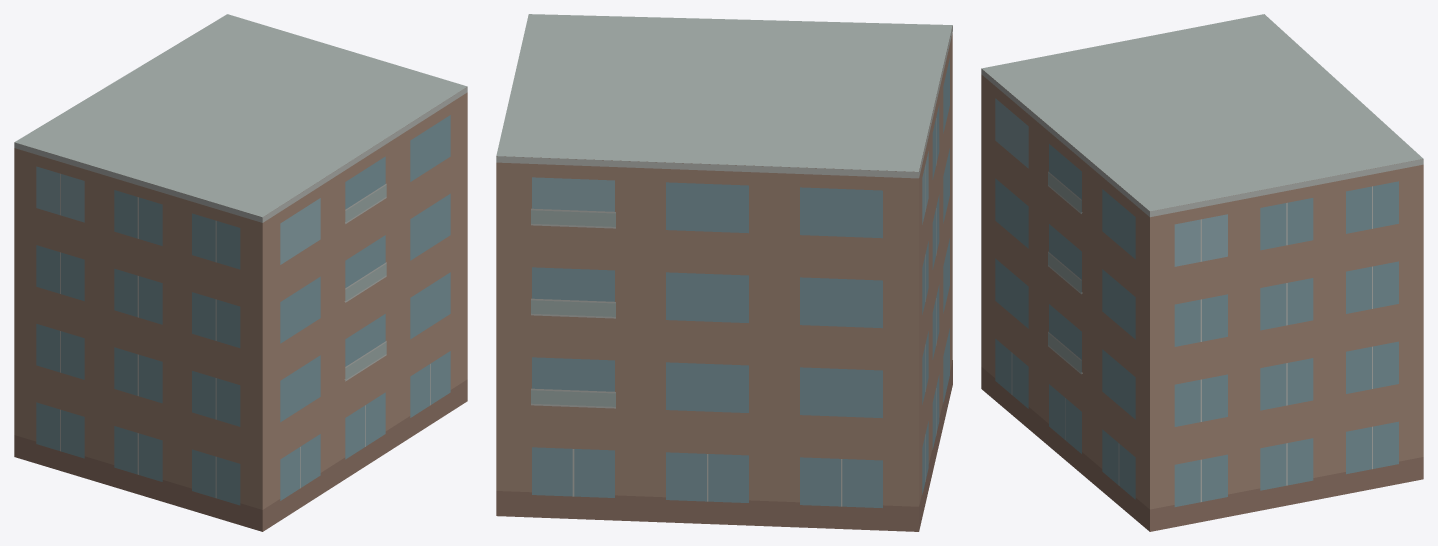
File: survey-upis-32740657.glb
The picture shows the model from 3 angles, left to right: view 1: azimuth 30°, elevation 25°; view 2: azimuth 150°, elevation 25°; view 3: azimuth 270°, elevation 25°; orthographic projection. The views are drawn at different scales.
Visible parts, largest first — view 1: survey-upis-32740657.tmp; view 2: survey-upis-32740657.tmp; view 3: survey-upis-32740657.tmp.
Part boxes in pixels (x1,y1,x2,y2): survey-upis-32740657.tmp: (14,14,467,531); survey-upis-32740657.tmp: (496,14,952,531); survey-upis-32740657.tmp: (981,14,1423,531).
Size of the model in its own units: 17.82 by 13.48 by 16.87.
